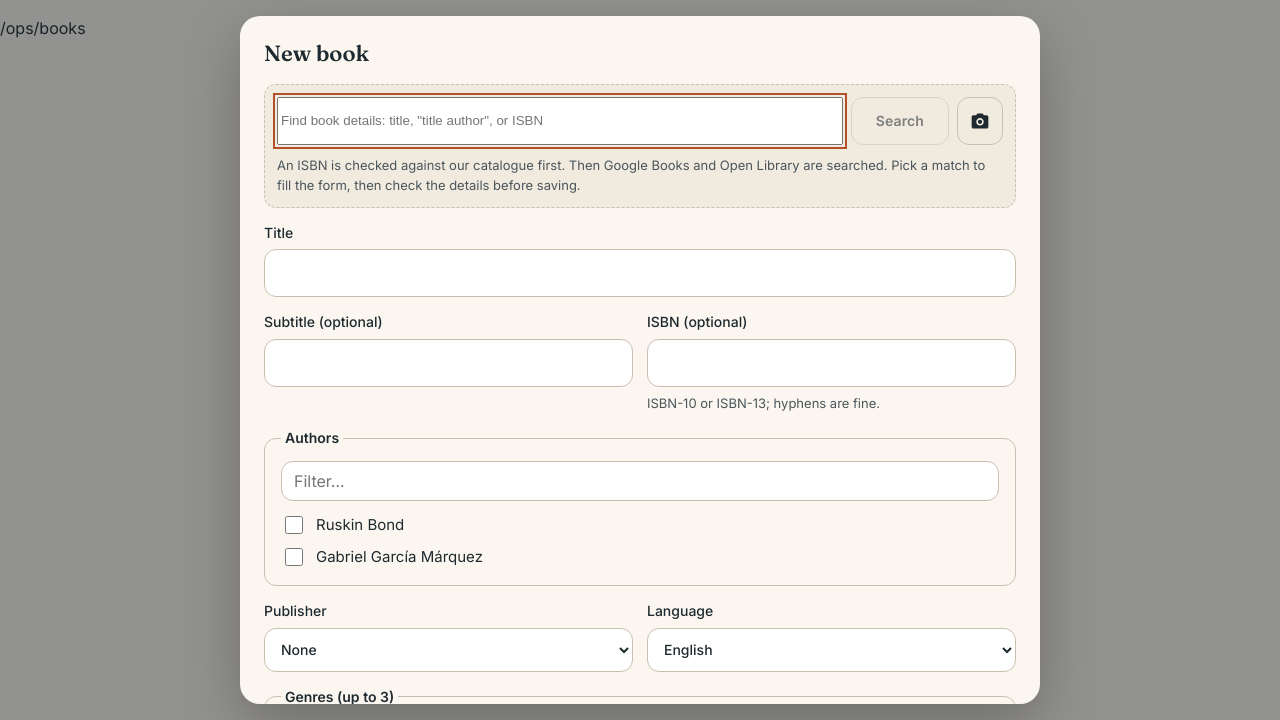
New book: find book details › matches names as the server does: accents and case do not make a new author
Expected: the checkbox labelled "Ruskin Bond" is shown, [285,516,303,534]
In the search field labelled "Find book details": coordinates (560, 120) [277,96,843,144], type "9780306406157"
Then press Enter
(page scrolled)
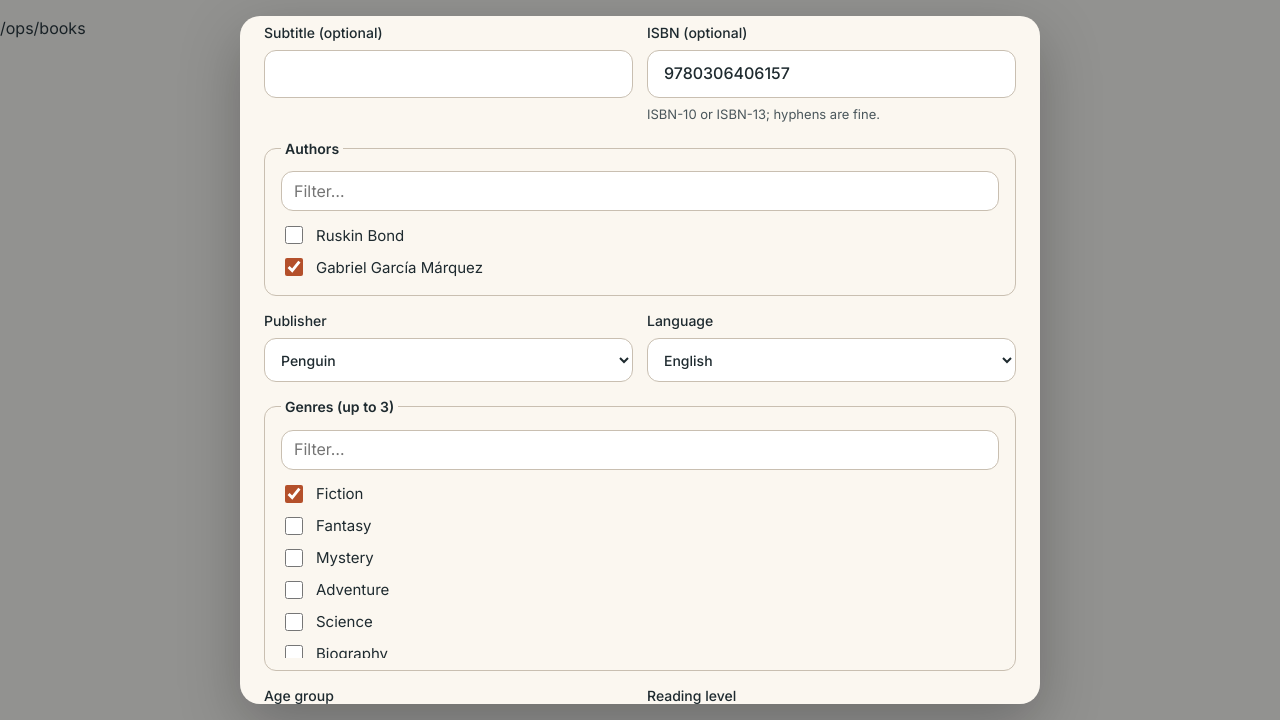
Expected: the checkbox labelled "Gabriel García Márquez" is checked, [285,258,303,276]
Expected: the dropdown labelled "Publisher" shows "Penguin", [264,338,633,382]
